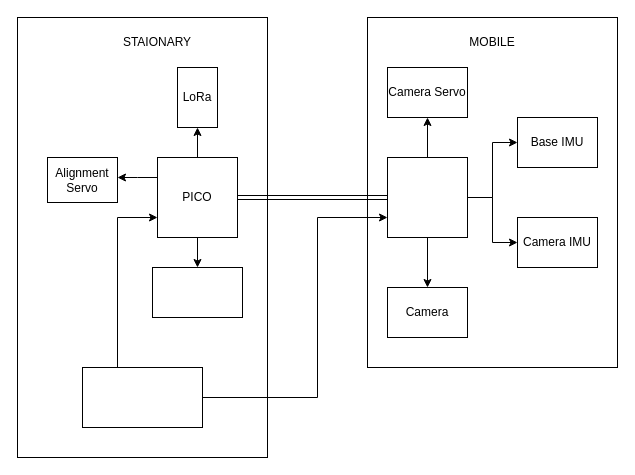
Some shapes in this 635 by 475 pixel diagram are drawn without their labels. The box of each missing label's shape, as (x1, y1, x2, y2) in pixels:
Battery System: (82, 366, 202, 428)
Light Sensor ring: (152, 266, 242, 318)
ZERO: (386, 156, 468, 238)
